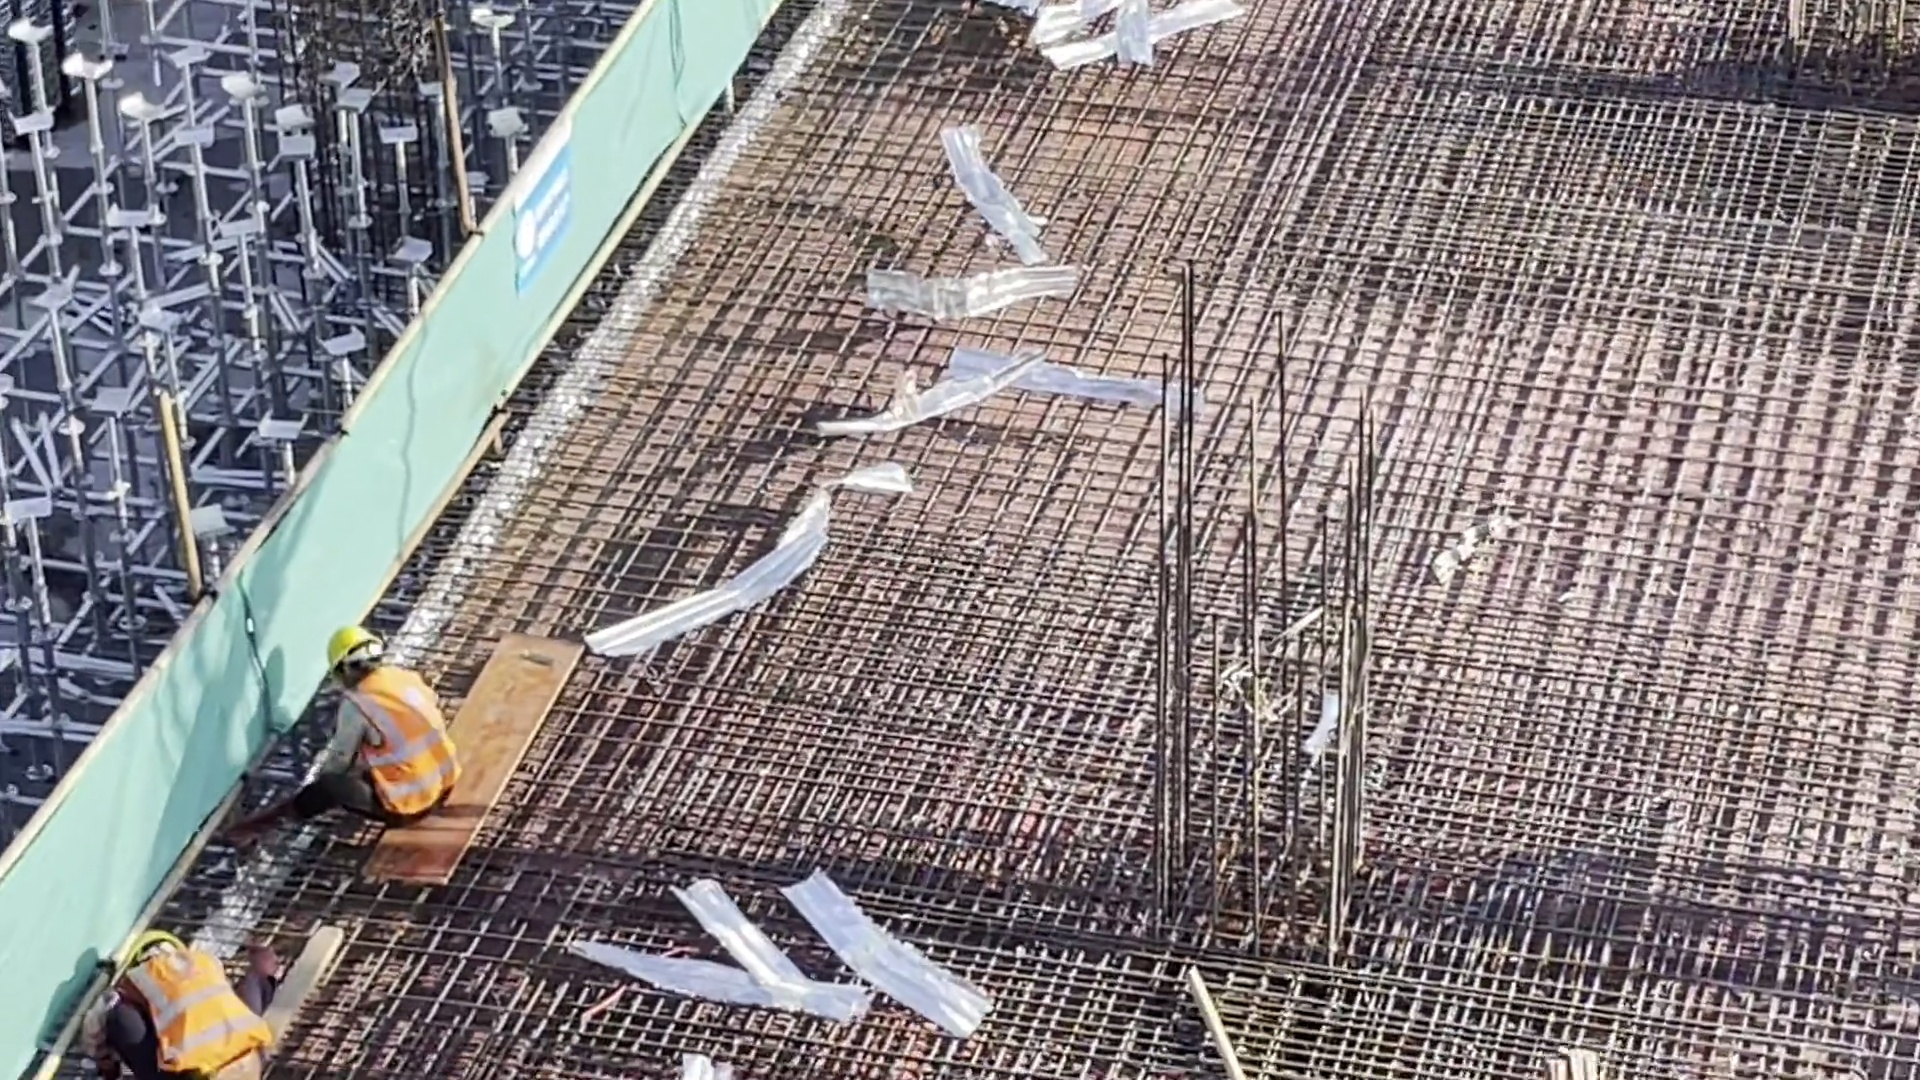helmet: (124, 926, 185, 948), (323, 632, 363, 655)
person: (307, 628, 465, 841), (119, 928, 273, 1080)
slogan: (513, 152, 573, 284)
vest: (127, 964, 277, 1067), (344, 683, 442, 822)
